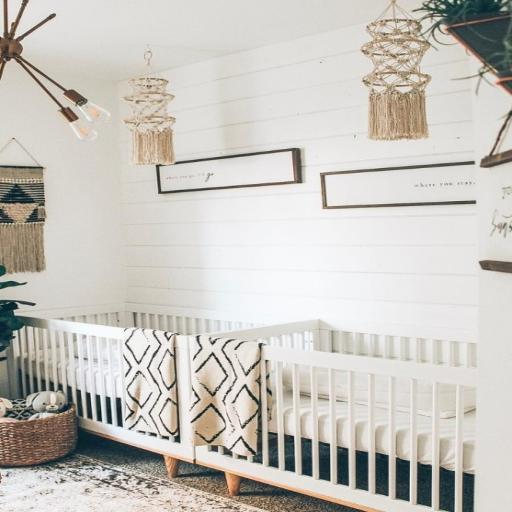crib: (195, 317, 512, 512), (12, 302, 316, 479)
